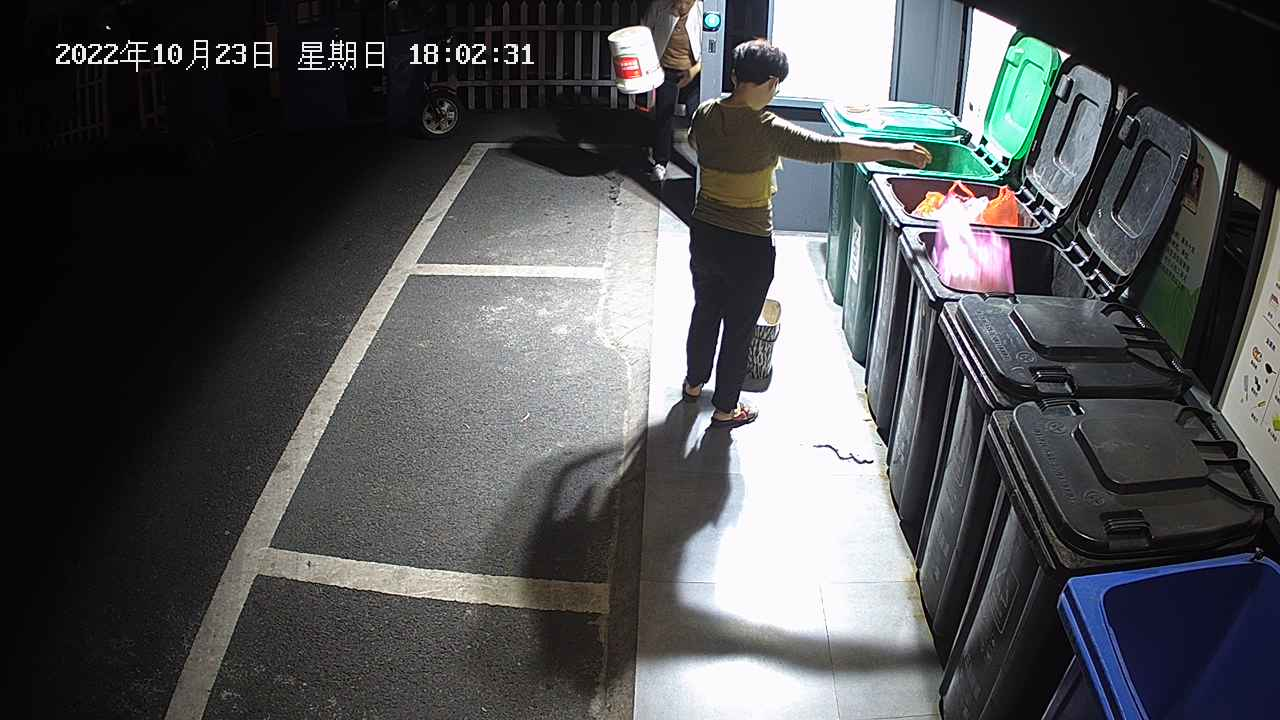person: (681, 33, 934, 433), (636, 1, 704, 183)
youtong: (606, 24, 666, 95), (745, 296, 782, 380)
